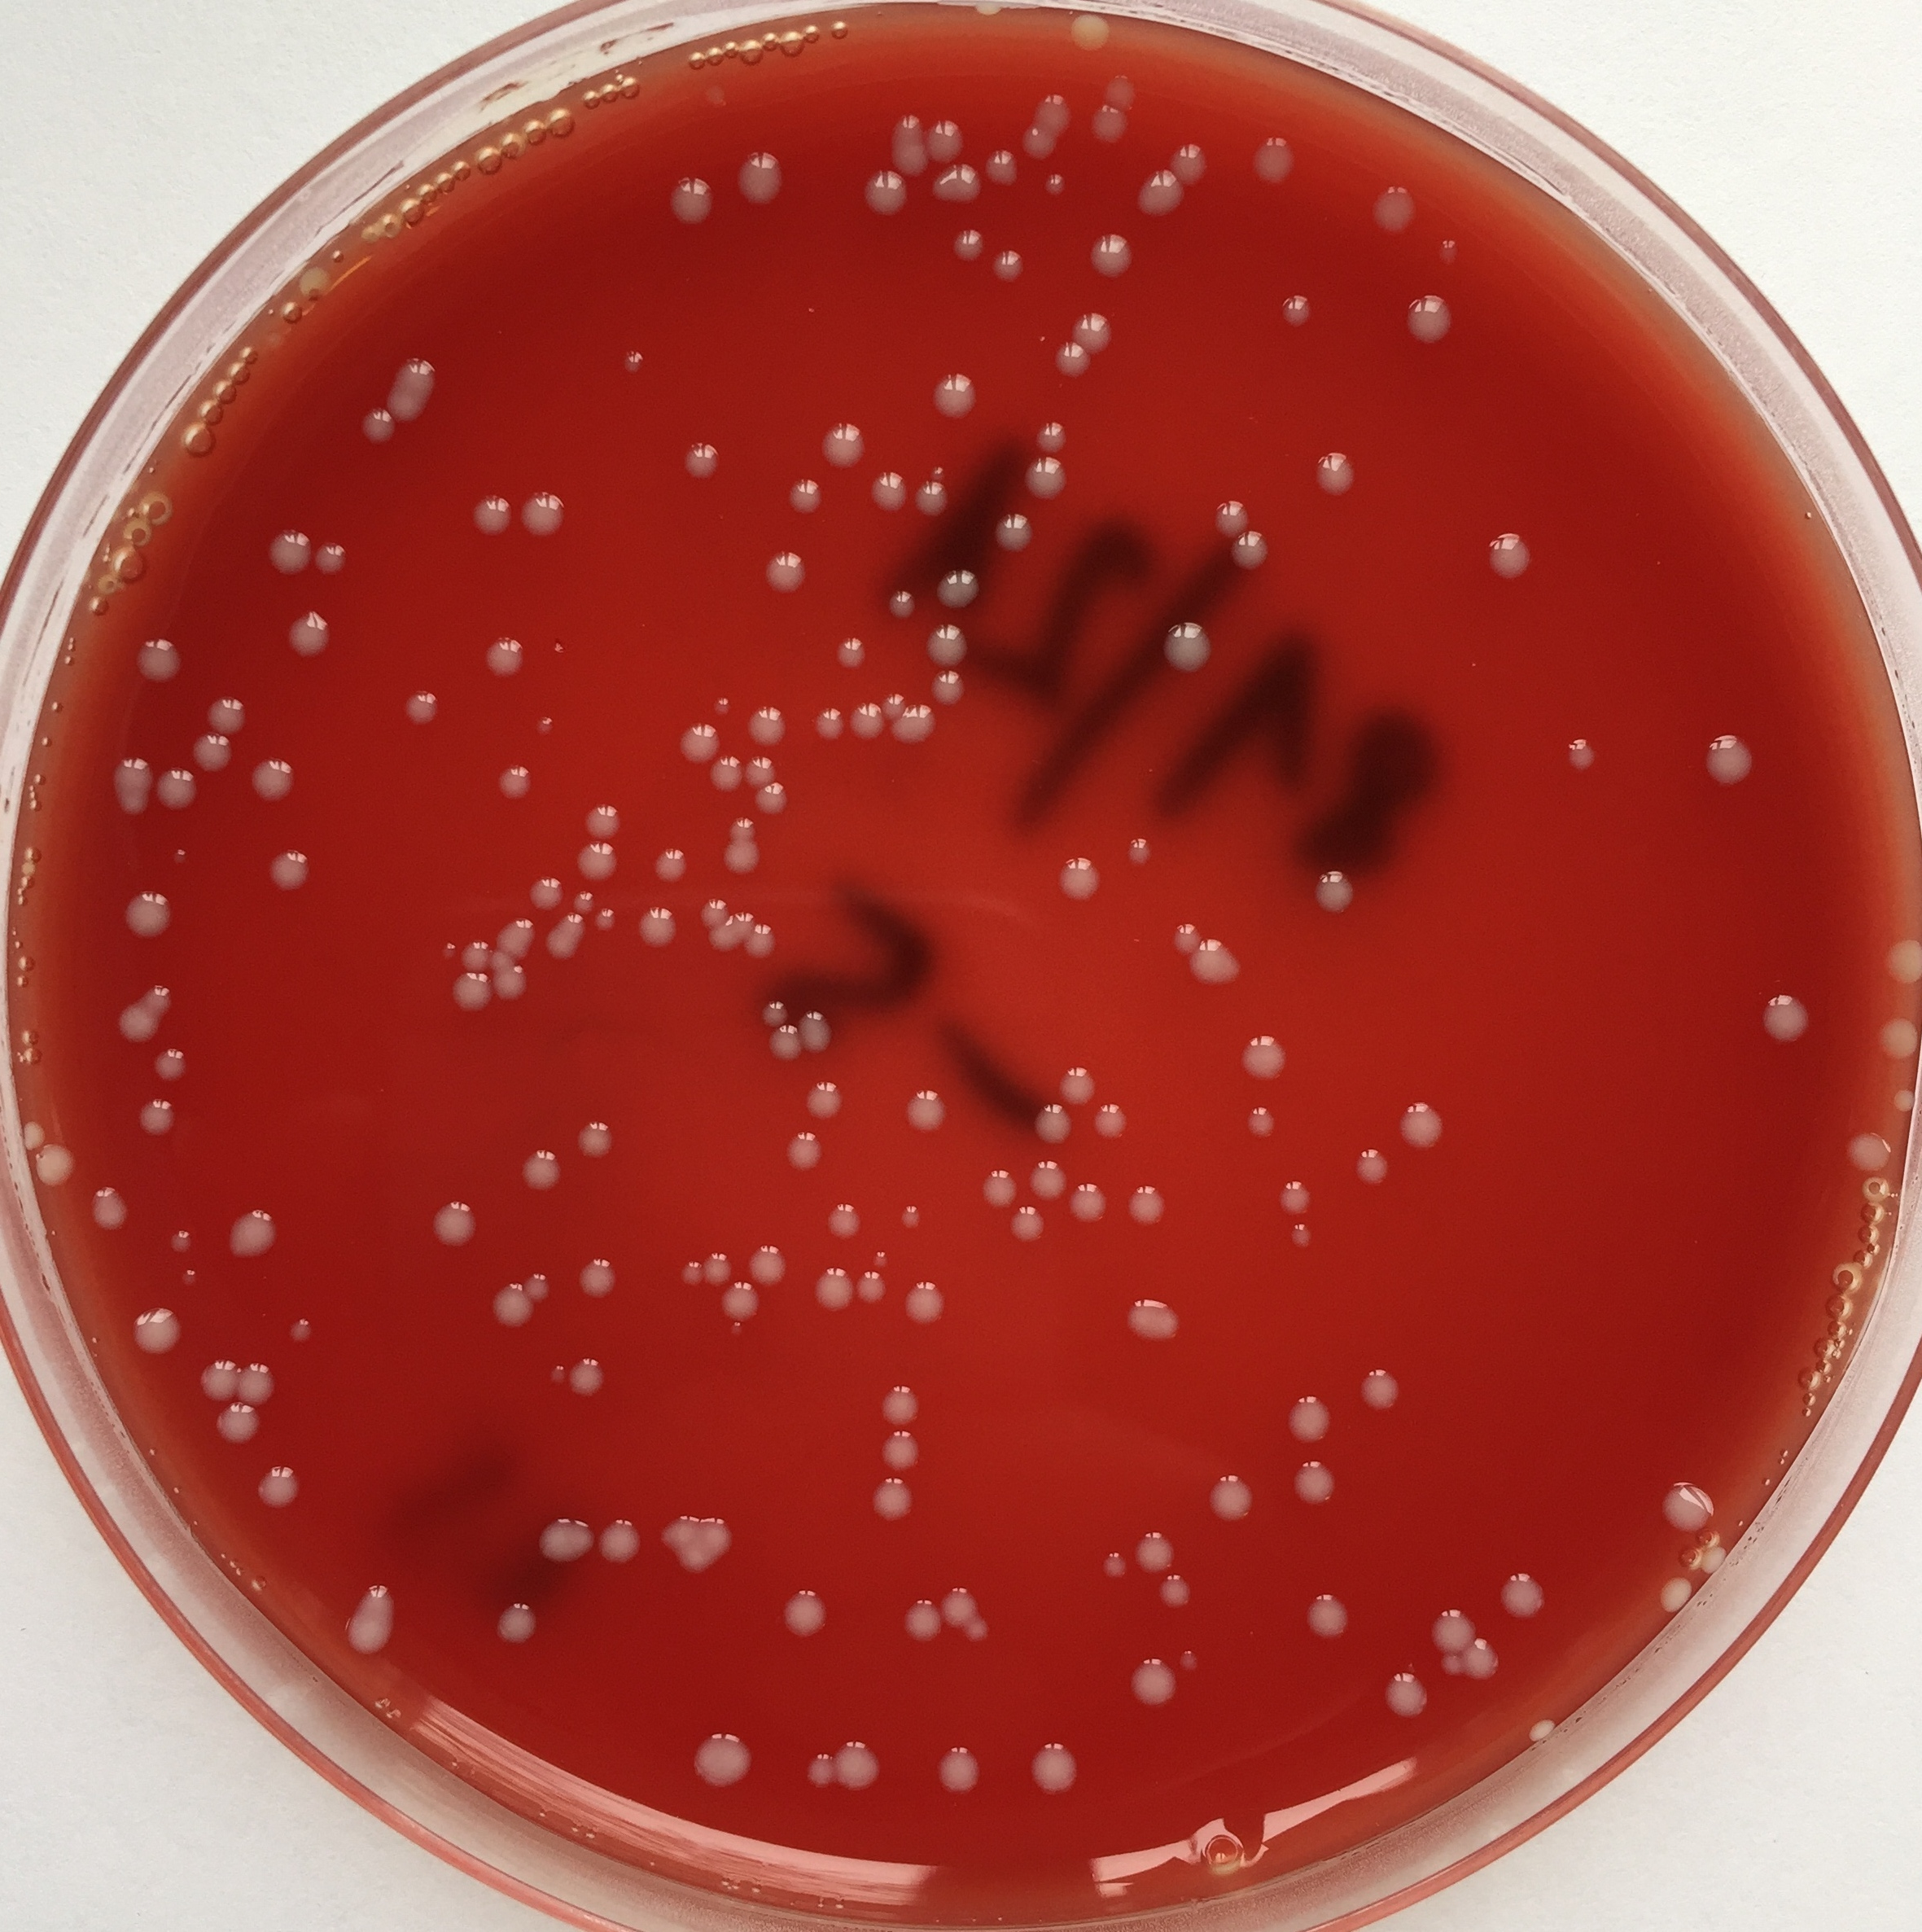sp22: (1470, 503, 1584, 618), (1688, 706, 1771, 806), (686, 1712, 762, 1809), (1292, 435, 1371, 524), (338, 1570, 405, 1670), (1243, 107, 1313, 197), (660, 1501, 739, 1577), (222, 1200, 306, 1270), (1746, 982, 1822, 1059), (1401, 282, 1470, 361), (419, 1189, 491, 1262), (488, 1578, 551, 1659), (1149, 604, 1218, 672), (771, 1570, 825, 1654), (1232, 1017, 1297, 1087), (896, 1070, 954, 1145), (1308, 850, 1366, 924), (532, 1508, 597, 1573), (1368, 164, 1426, 234), (1019, 1735, 1082, 1798), (1647, 1471, 1718, 1527), (1123, 1286, 1185, 1350), (245, 1457, 308, 1519), (1540, 732, 1610, 787), (1262, 282, 1332, 336), (1118, 822, 1179, 883), (1387, 1091, 1450, 1151), (519, 482, 576, 549), (1830, 1126, 1906, 1175), (1079, 231, 1155, 280), (1204, 1464, 1260, 1529), (125, 1307, 188, 1364), (919, 368, 982, 424), (1290, 1587, 1355, 1642), (579, 1107, 630, 1175), (935, 1731, 987, 1797), (260, 838, 313, 903), (1232, 523, 1287, 584), (1288, 1452, 1343, 1513), (104, 751, 151, 822), (836, 1733, 894, 1789), (871, 1376, 929, 1432), (477, 626, 533, 684), (120, 889, 176, 947), (929, 563, 998, 611), (737, 141, 789, 204), (817, 415, 869, 475), (665, 164, 716, 225), (913, 459, 963, 523), (1274, 1392, 1332, 1445), (239, 755, 297, 808), (597, 1506, 648, 1566), (128, 1094, 190, 1144), (1126, 1643, 1172, 1709), (289, 604, 340, 662), (1862, 1014, 1922, 1063), (929, 616, 991, 663), (523, 1133, 565, 1202), (130, 632, 181, 688), (477, 477, 517, 547), (1126, 1519, 1177, 1573), (1195, 933, 1244, 989), (762, 538, 820, 586), (576, 1251, 620, 1313), (1500, 1562, 1549, 1617), (1063, 1172, 1105, 1233), (1199, 480, 1253, 528), (898, 1272, 945, 1327), (676, 426, 723, 480), (209, 1404, 266, 1450), (1060, 9, 1116, 55), (153, 767, 201, 820), (864, 459, 912, 512), (799, 999, 847, 1052), (1133, 167, 1186, 215), (935, 155, 982, 208), (1461, 1640, 1507, 1694), (90, 1186, 136, 1240), (811, 1256, 855, 1313), (567, 841, 625, 883), (1357, 1364, 1408, 1411), (1378, 1672, 1426, 1723), (866, 1473, 917, 1520), (539, 913, 586, 964), (1882, 933, 1922, 992), (398, 679, 451, 725), (896, 1585, 935, 1647), (39, 1140, 86, 1189), (1167, 137, 1216, 185), (864, 169, 912, 218), (1056, 845, 1097, 901), (1021, 1154, 1070, 1200), (262, 521, 308, 570), (1005, 1200, 1045, 1255), (1053, 1061, 1098, 1109), (1649, 1573, 1697, 1619), (199, 1351, 245, 1399), (825, 619, 873, 665), (1422, 223, 1466, 273), (873, 1431, 922, 1475), (1417, 1605, 1468, 1647), (709, 1284, 760, 1327), (1023, 413, 1074, 456), (632, 901, 674, 952), (718, 839, 776, 876), (922, 107, 968, 153), (1346, 1135, 1390, 1182), (799, 1070, 843, 1117), (929, 662, 977, 706), (977, 139, 1021, 187), (1271, 1172, 1327, 1209), (785, 463, 827, 512), (704, 908, 746, 957), (1093, 95, 1135, 144), (493, 1274, 530, 1328), (1246, 1101, 1290, 1147), (672, 718, 716, 764), (444, 973, 491, 1015), (493, 910, 532, 961), (1133, 1174, 1167, 1232), (940, 1571, 973, 1629), (1278, 1211, 1322, 1255), (813, 1191, 855, 1237), (241, 1353, 280, 1402), (642, 839, 692, 878), (991, 239, 1028, 290), (1024, 459, 1081, 493), (781, 1124, 822, 1170), (1151, 1575, 1199, 1614), (899, 704, 938, 751), (576, 1348, 609, 1402), (994, 509, 1031, 558), (699, 753, 739, 797), (583, 797, 623, 841), (493, 758, 539, 797), (206, 690, 253, 727), (1887, 1068, 1922, 1117), (190, 732, 231, 774), (150, 1035, 192, 1075), (1016, 118, 1058, 158), (1169, 913, 1206, 959), (697, 1240, 734, 1286), (315, 533, 352, 579), (810, 700, 847, 746), (1054, 341, 1095, 382), (1095, 1100, 1133, 1142), (1075, 304, 1118, 343), (1030, 1101, 1067, 1145), (745, 704, 789, 741), (755, 781, 799, 818), (847, 693, 882, 739), (359, 391, 392, 438), (803, 1740, 836, 1786), (107, 1003, 153, 1036), (143, 975, 180, 1015), (952, 225, 989, 266), (1524, 1710, 1558, 1754), (748, 1237, 781, 1281), (394, 350, 433, 387), (982, 1163, 1017, 1204), (736, 751, 776, 787), (459, 929, 489, 975), (530, 866, 561, 908), (1700, 1534, 1735, 1571), (394, 391, 428, 429), (892, 141, 931, 174), (1097, 1536, 1125, 1582), (899, 1193, 928, 1239), (167, 1225, 206, 1256), (1174, 1645, 1204, 1684), (767, 1021, 797, 1059), (289, 1309, 317, 1350), (690, 896, 730, 924), (563, 883, 598, 915), (586, 901, 621, 933), (723, 808, 757, 839), (162, 841, 195, 873), (1033, 88, 1068, 118), (857, 1270, 885, 1307), (495, 966, 523, 1003), (748, 920, 776, 957), (889, 107, 921, 139), (706, 692, 739, 721), (23, 1119, 49, 1156), (535, 709, 565, 737), (762, 991, 790, 1021), (1433, 1649, 1459, 1680), (542, 1355, 567, 1388), (1042, 167, 1067, 201), (528, 1260, 547, 1300), (966, 1622, 991, 1654), (891, 579, 912, 616), (621, 345, 644, 377), (674, 1256, 697, 1286), (868, 1242, 892, 1269), (551, 628, 570, 662), (181, 1262, 202, 1292), (882, 683, 901, 714), (431, 938, 456, 961)
